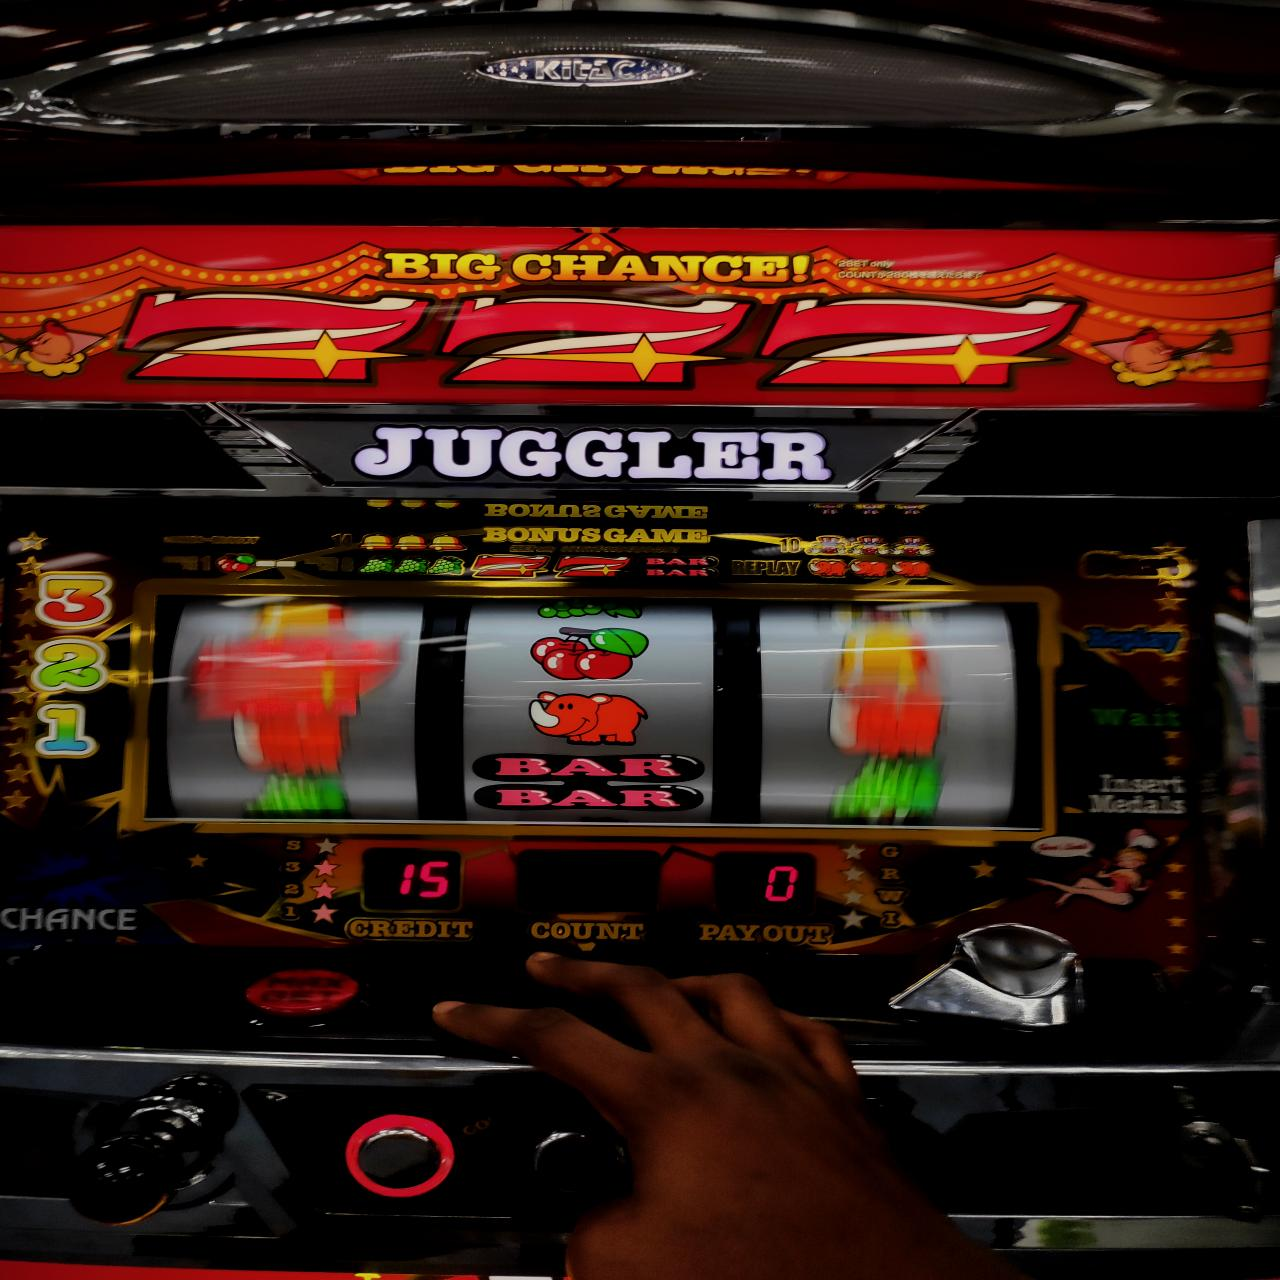8: (524, 689, 651, 745)
bar: (467, 751, 707, 816)
cherry: (529, 622, 654, 676)
rhino: (148, 590, 1053, 838)
